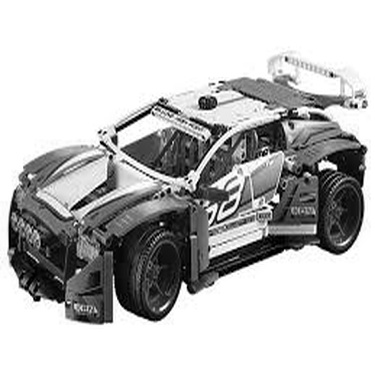car: (1, 45, 368, 330)
